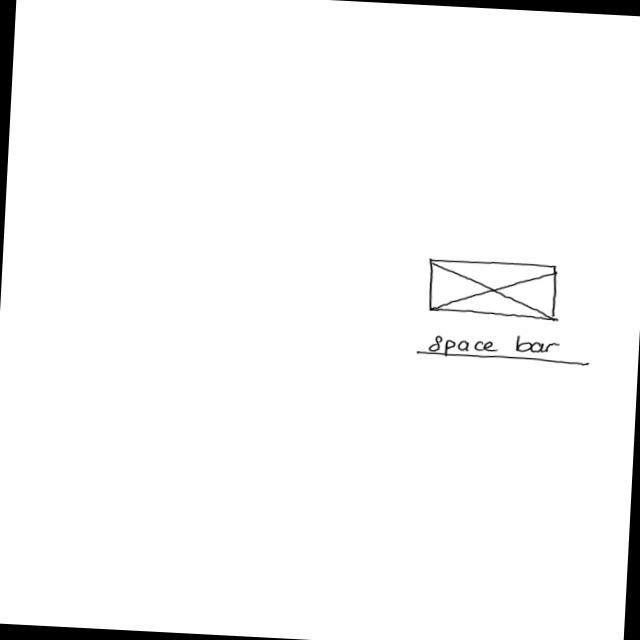image: (426, 256, 560, 322)
input: (416, 329, 592, 370)
